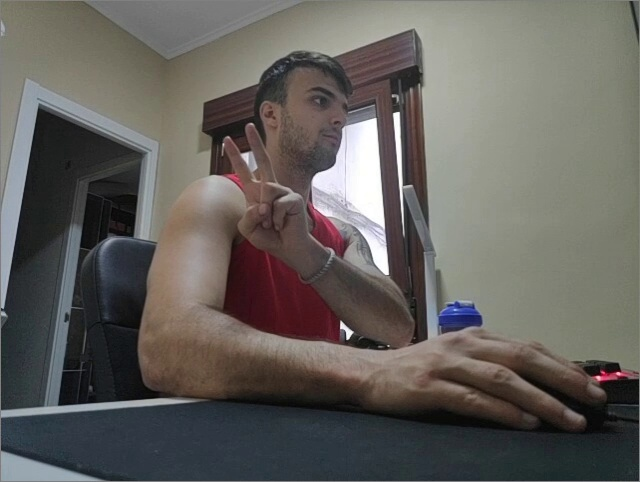Peace: (213, 121, 309, 253)
